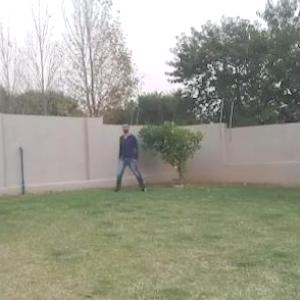follow: (120, 121, 138, 189)
